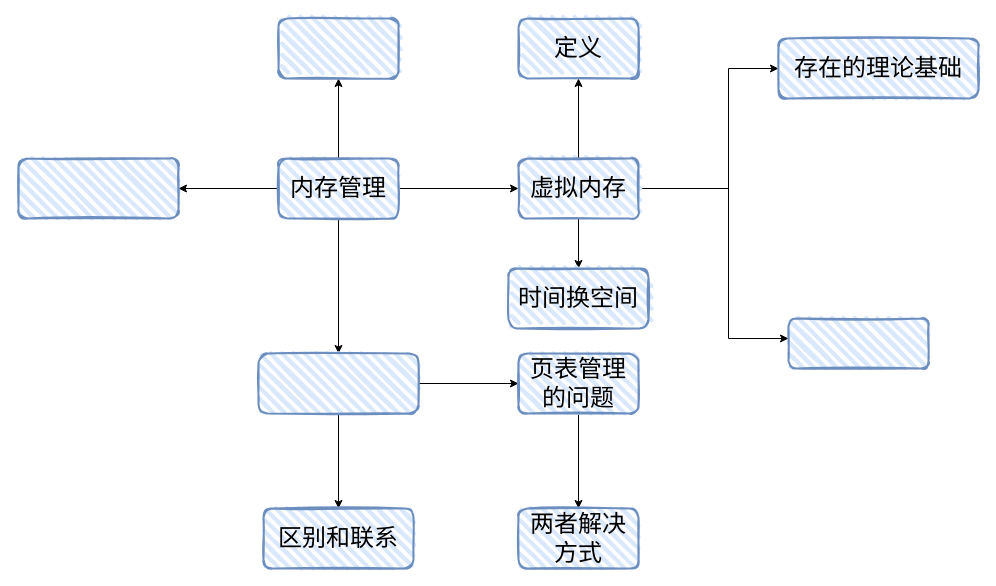
Some shapes in this 996 by 586 pixel diagram are drawn without their labels. Here are the shapes that lost their labels. From the top down, the centre of each, then its label:
pixel 338 48: 作用
pixel 98 188: 页面置换算法
pixel 858 343: 技术实现
pixel 338 383: 内存管理机制
